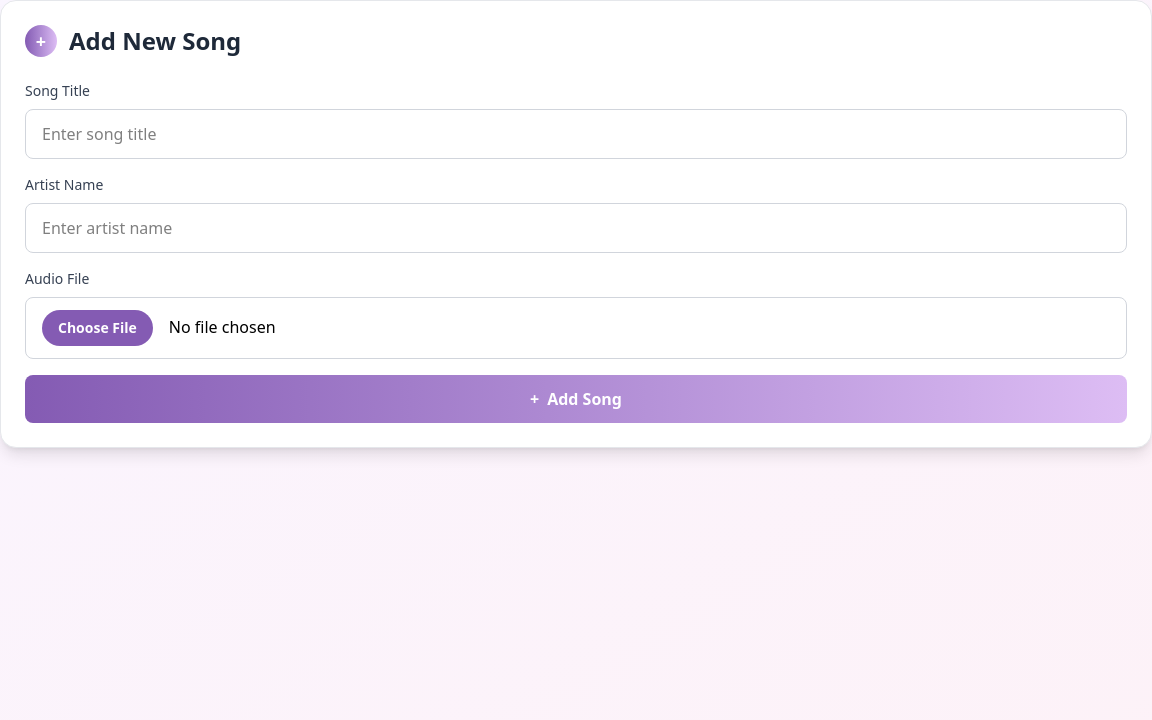
Test: AddSongForm › rejects a submission with a missing artist
This screenshot has width=1152, height=720.
Type "Test Song" into the field with placeholder "Enter song title" at (576, 134), box [25, 109, 1127, 159]
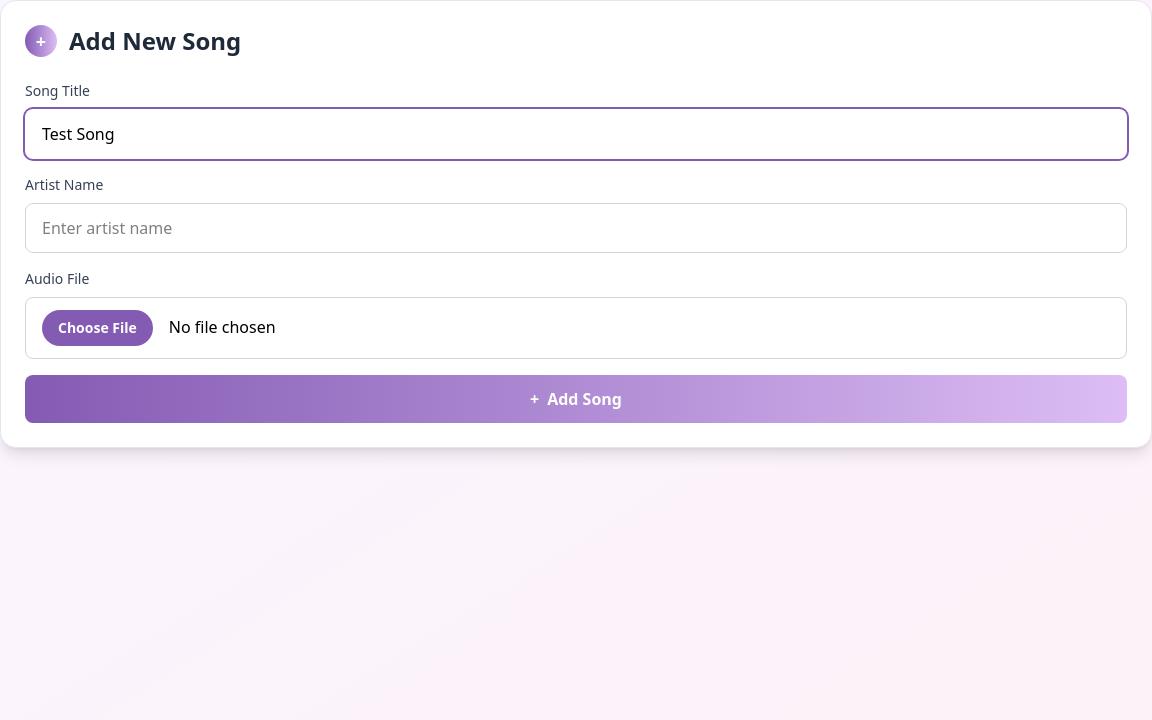
Click the button "+ Add Song" at (576, 399), box [25, 375, 1127, 423]
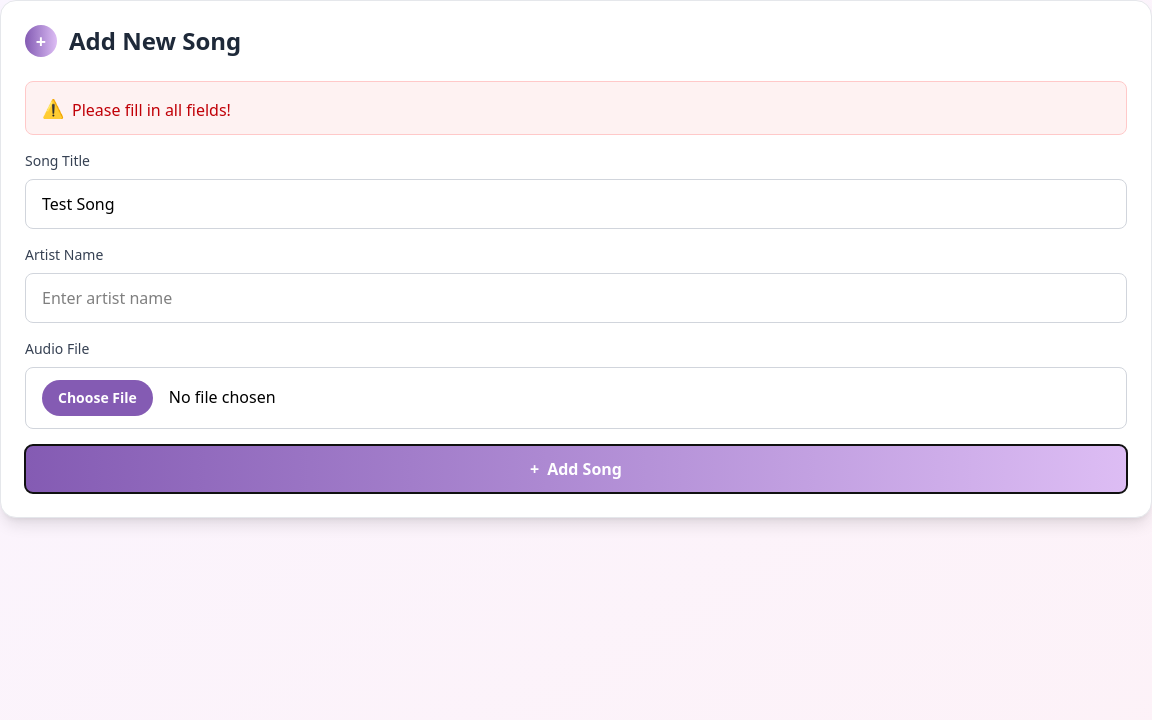
Expected: the text "Please fill in all fields!" is shown, [72, 98, 231, 122]
